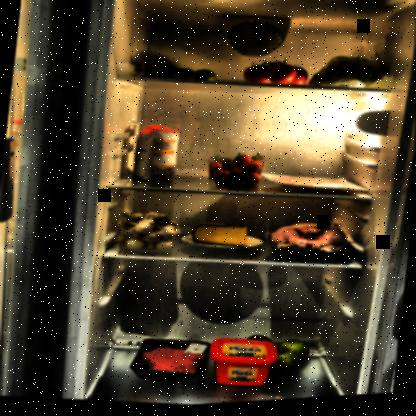apple: (239, 332, 317, 382)
butter: (206, 335, 279, 396)
cheese: (189, 220, 252, 254)
chicken: (263, 219, 357, 272)
green_beans: (304, 51, 389, 100)
ground_beef: (136, 341, 208, 383)
lime: (139, 61, 220, 90)
mushrooms: (113, 208, 190, 260)
strawberries: (203, 148, 269, 197)
tomato: (242, 56, 312, 95)
